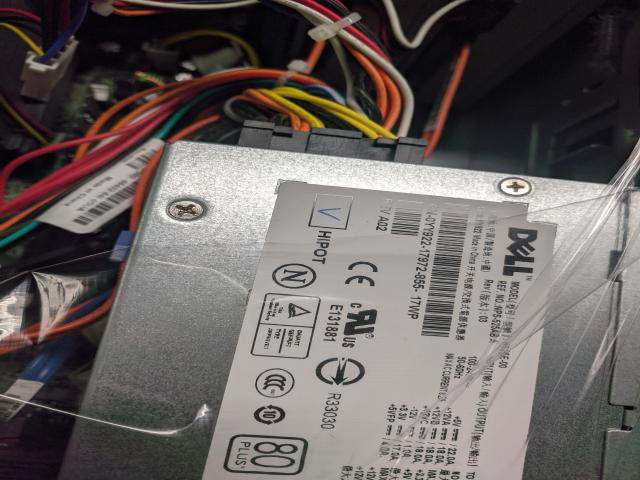CRS: (167, 198, 206, 222), (496, 177, 534, 199)
